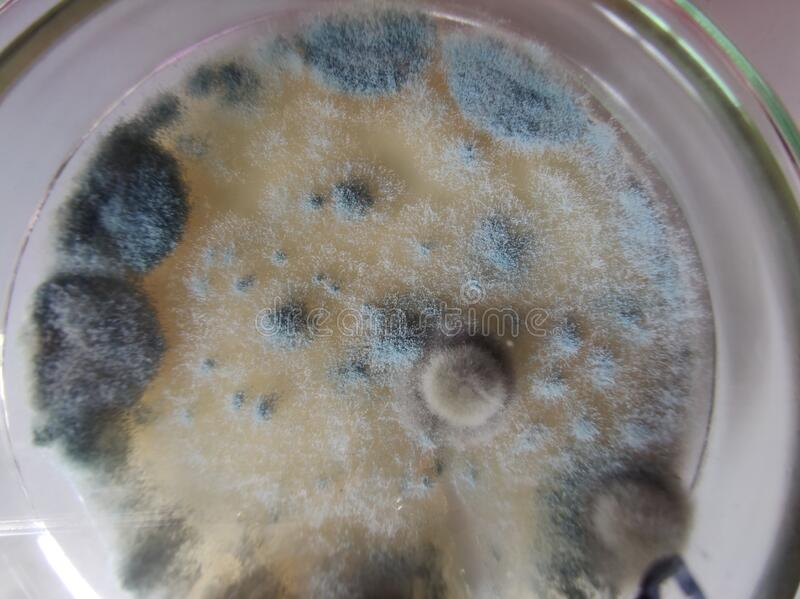Aspergillus: (278, 162, 532, 284), (50, 160, 194, 274), (524, 453, 690, 551), (420, 333, 524, 444), (292, 20, 433, 96), (577, 232, 674, 333)
